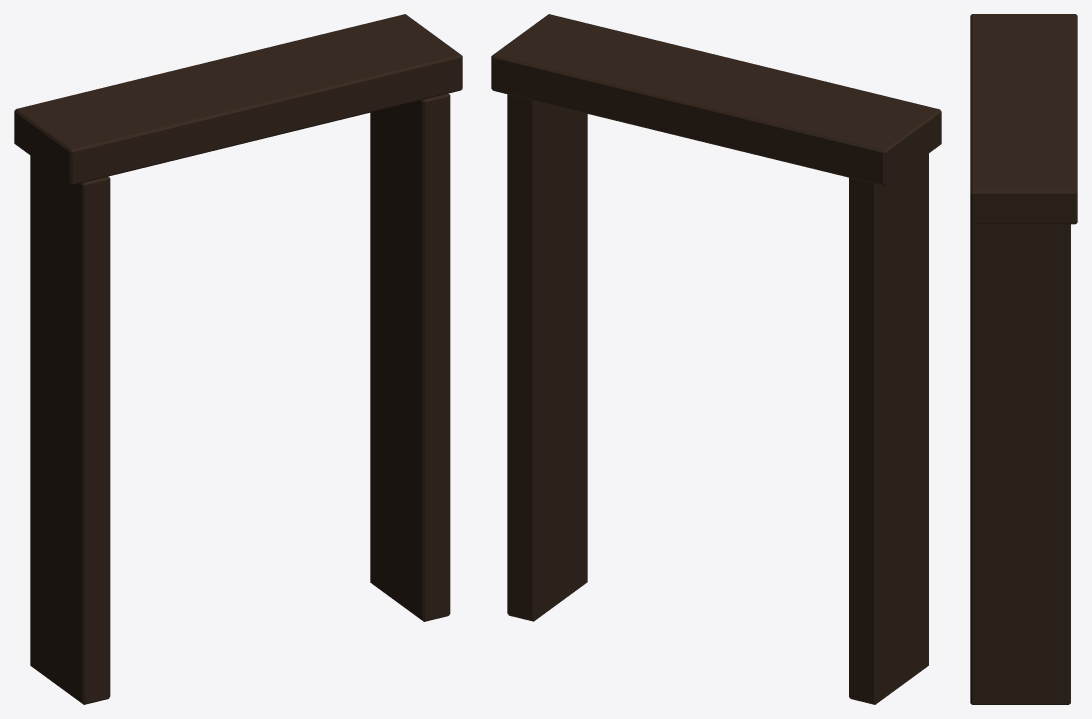
Rendered from frame_door.fbx.
3 renders of one model, left to right at view 1: azimuth 30°, elevation 25°; view 2: azimuth 150°, elevation 25°; view 3: azimuth 270°, elevation 25°, orthographic. The views are drawn at different scales.
Visible parts, largest first — view 1: frame_door; view 2: frame_door; view 3: frame_door.
Part boxes in pixels (x1=…): frame_door: x1=14, y1=14, x2=462, y2=704; frame_door: x1=491, y1=14, x2=941, y2=704; frame_door: x1=970, y1=14, x2=1077, y2=704.
Bounding box in the file's own units: 630 × 855 × 160.
